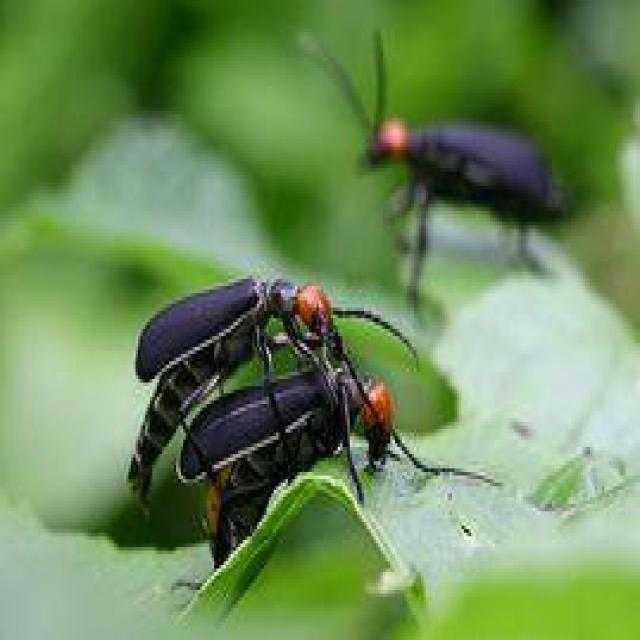BlisterBeetle-Adult-: (174, 364, 420, 577)
